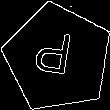P_S: (36, 30, 80, 86)
